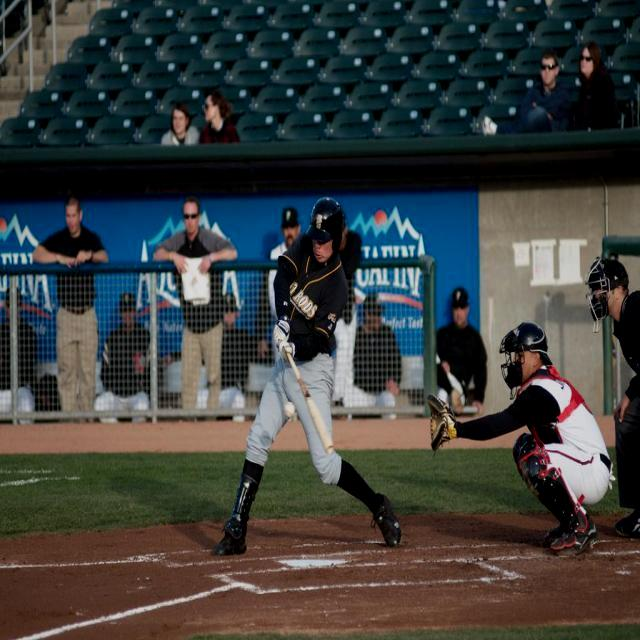ball: (282, 402, 296, 418)
bat: (288, 353, 336, 453)
